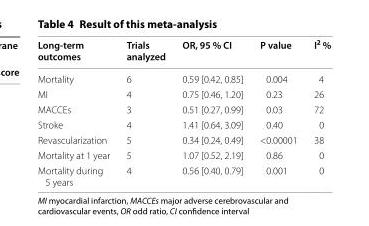table: (36, 36, 330, 187)
table column: (36, 36, 117, 187), (173, 36, 250, 187), (117, 36, 173, 187), (250, 36, 304, 187), (304, 36, 330, 187)
table column header: (36, 36, 330, 67)
table row: (36, 36, 330, 67), (36, 162, 330, 187), (36, 67, 330, 86), (36, 131, 330, 147), (36, 86, 330, 101), (36, 101, 330, 116), (36, 116, 330, 131), (36, 147, 330, 162)
